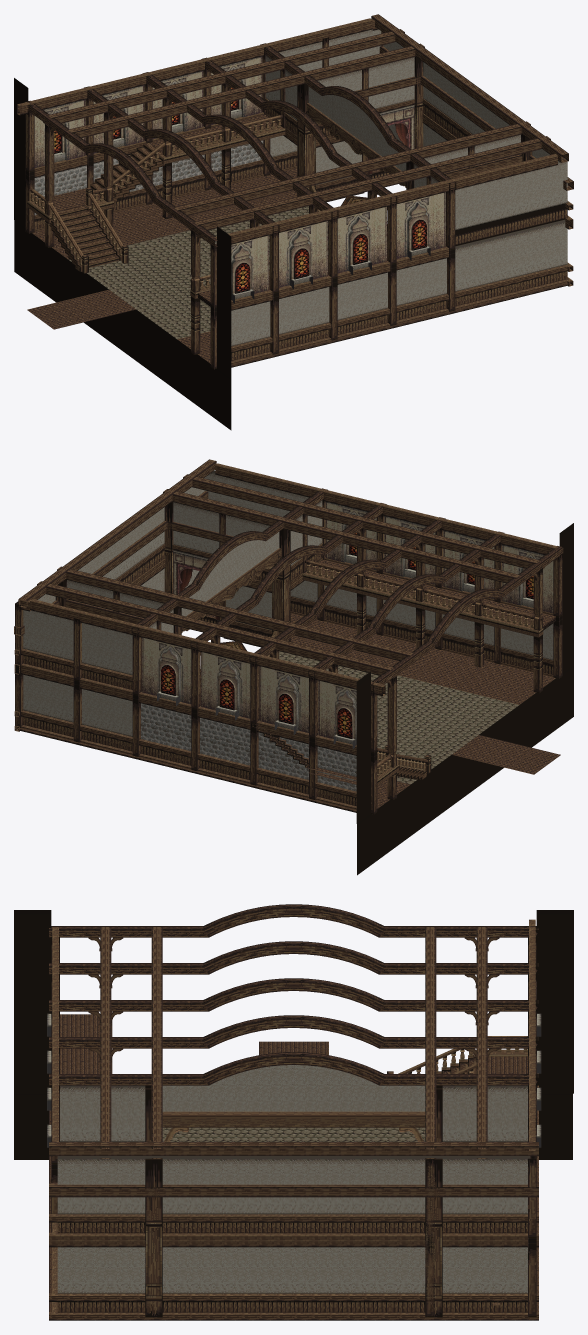
File: ObjMD_Pub_Desert_MB.FBX
3 views of the same model, one above another, from view 1: azimuth 30°, elevation 25°; view 2: azimuth 150°, elevation 25°; view 3: azimuth 270°, elevation 25° (orthographic). The views are drawn at different scales.
Visible parts, largest first — view 1: ObjMD_Pub_Desert_MB, ObjMD_Pub_Desert_Parts_A, ObjMD_Pub_Desert_MB_floor_stone; view 2: ObjMD_Pub_Desert_MB, ObjMD_Pub_Desert_Parts_A, ObjMD_Pub_Desert_MB_floor_stone; view 3: ObjMD_Pub_Desert_MB, ObjMD_Pub_Desert_MB_floor_stone, ObjMD_Pub_Desert_Parts_A.
Boxes of the visible parts, left/top/right/bottom form: ObjMD_Pub_Desert_MB: left=14, top=14, right=573, bottom=430; ObjMD_Pub_Desert_Parts_A: left=34, top=56, right=445, bottom=303; ObjMD_Pub_Desert_MB_floor_stone: left=68, top=206, right=328, bottom=339; ObjMD_Pub_Desert_MB: left=14, top=459, right=573, bottom=875; ObjMD_Pub_Desert_Parts_A: left=142, top=501, right=553, bottom=748; ObjMD_Pub_Desert_MB_floor_stone: left=279, top=651, right=518, bottom=784; ObjMD_Pub_Desert_MB: left=14, top=904, right=573, bottom=1320; ObjMD_Pub_Desert_MB_floor_stone: left=162, top=1127, right=425, bottom=1141; ObjMD_Pub_Desert_Parts_A: left=47, top=981, right=541, bottom=1147.
Bounding box in the file's own units: 3725 × 1601 × 3200.
